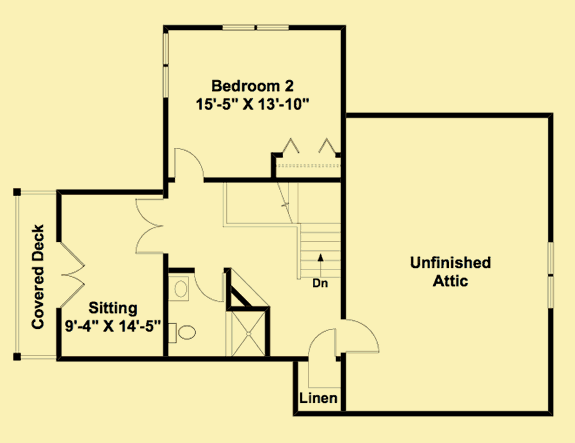door: (132, 197, 167, 255), (58, 241, 87, 309), (341, 317, 381, 356), (191, 267, 227, 303), (172, 146, 206, 183), (304, 326, 337, 360)
large_sink: (167, 321, 197, 345)
small_sink: (169, 273, 190, 301)
stairs: (275, 181, 340, 290)
window: (160, 30, 173, 98), (544, 240, 557, 308), (218, 23, 292, 33)
